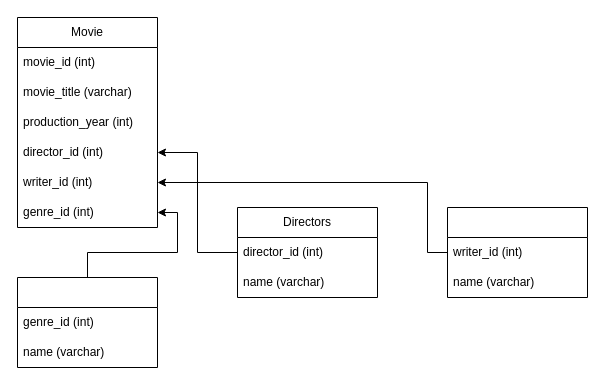
Image size: 605x385. Some labels were removed from this diagram. Each missing label, with the box of its shape:
Genres: (16, 276, 158, 368)
Writers: (446, 206, 588, 298)
